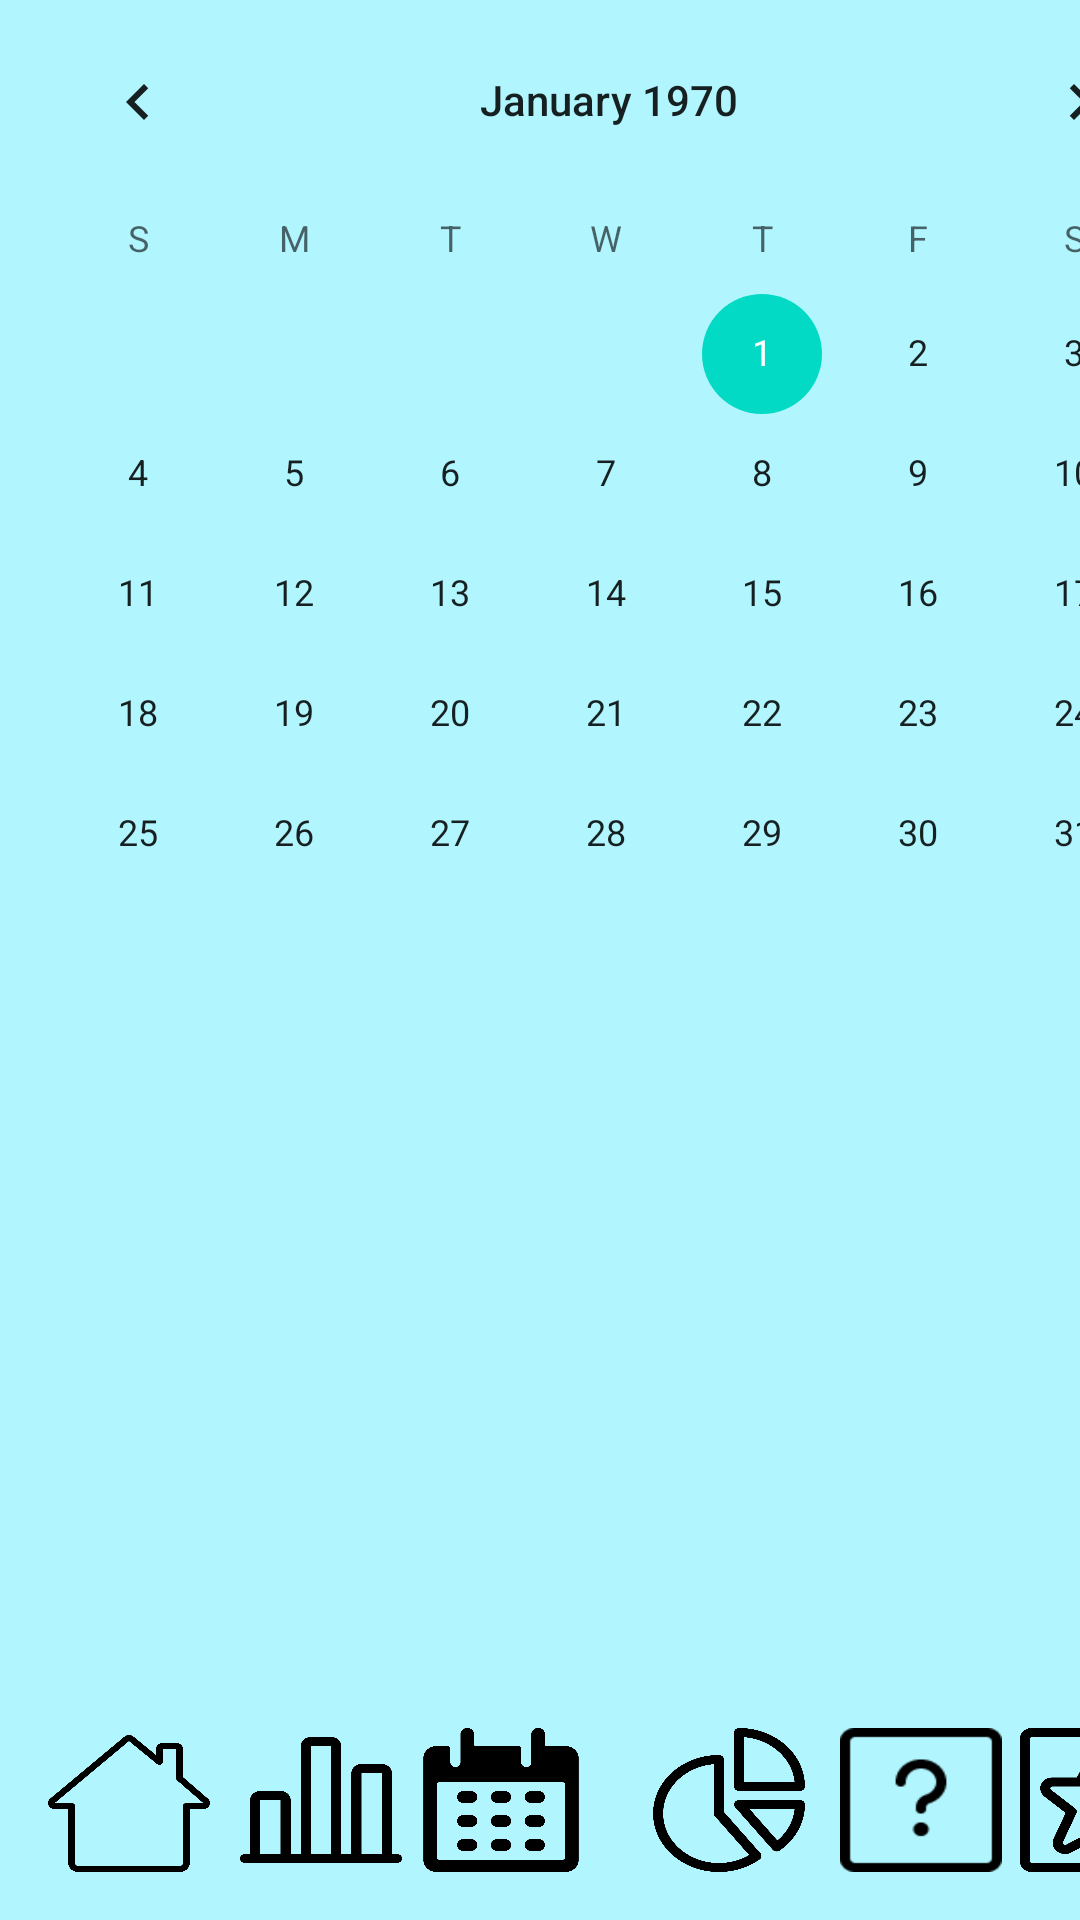

Locate icon controls on the screen. Image size 1080w x 1920h, boxes as (x1, y1, x2, y2).
analytics bars: (240, 1737, 402, 1863)
analytics pie: (653, 1728, 805, 1872)
calendar: (423, 1728, 579, 1872)
house chimney: (48, 1735, 210, 1872)
question help square: (840, 1728, 1002, 1872)
